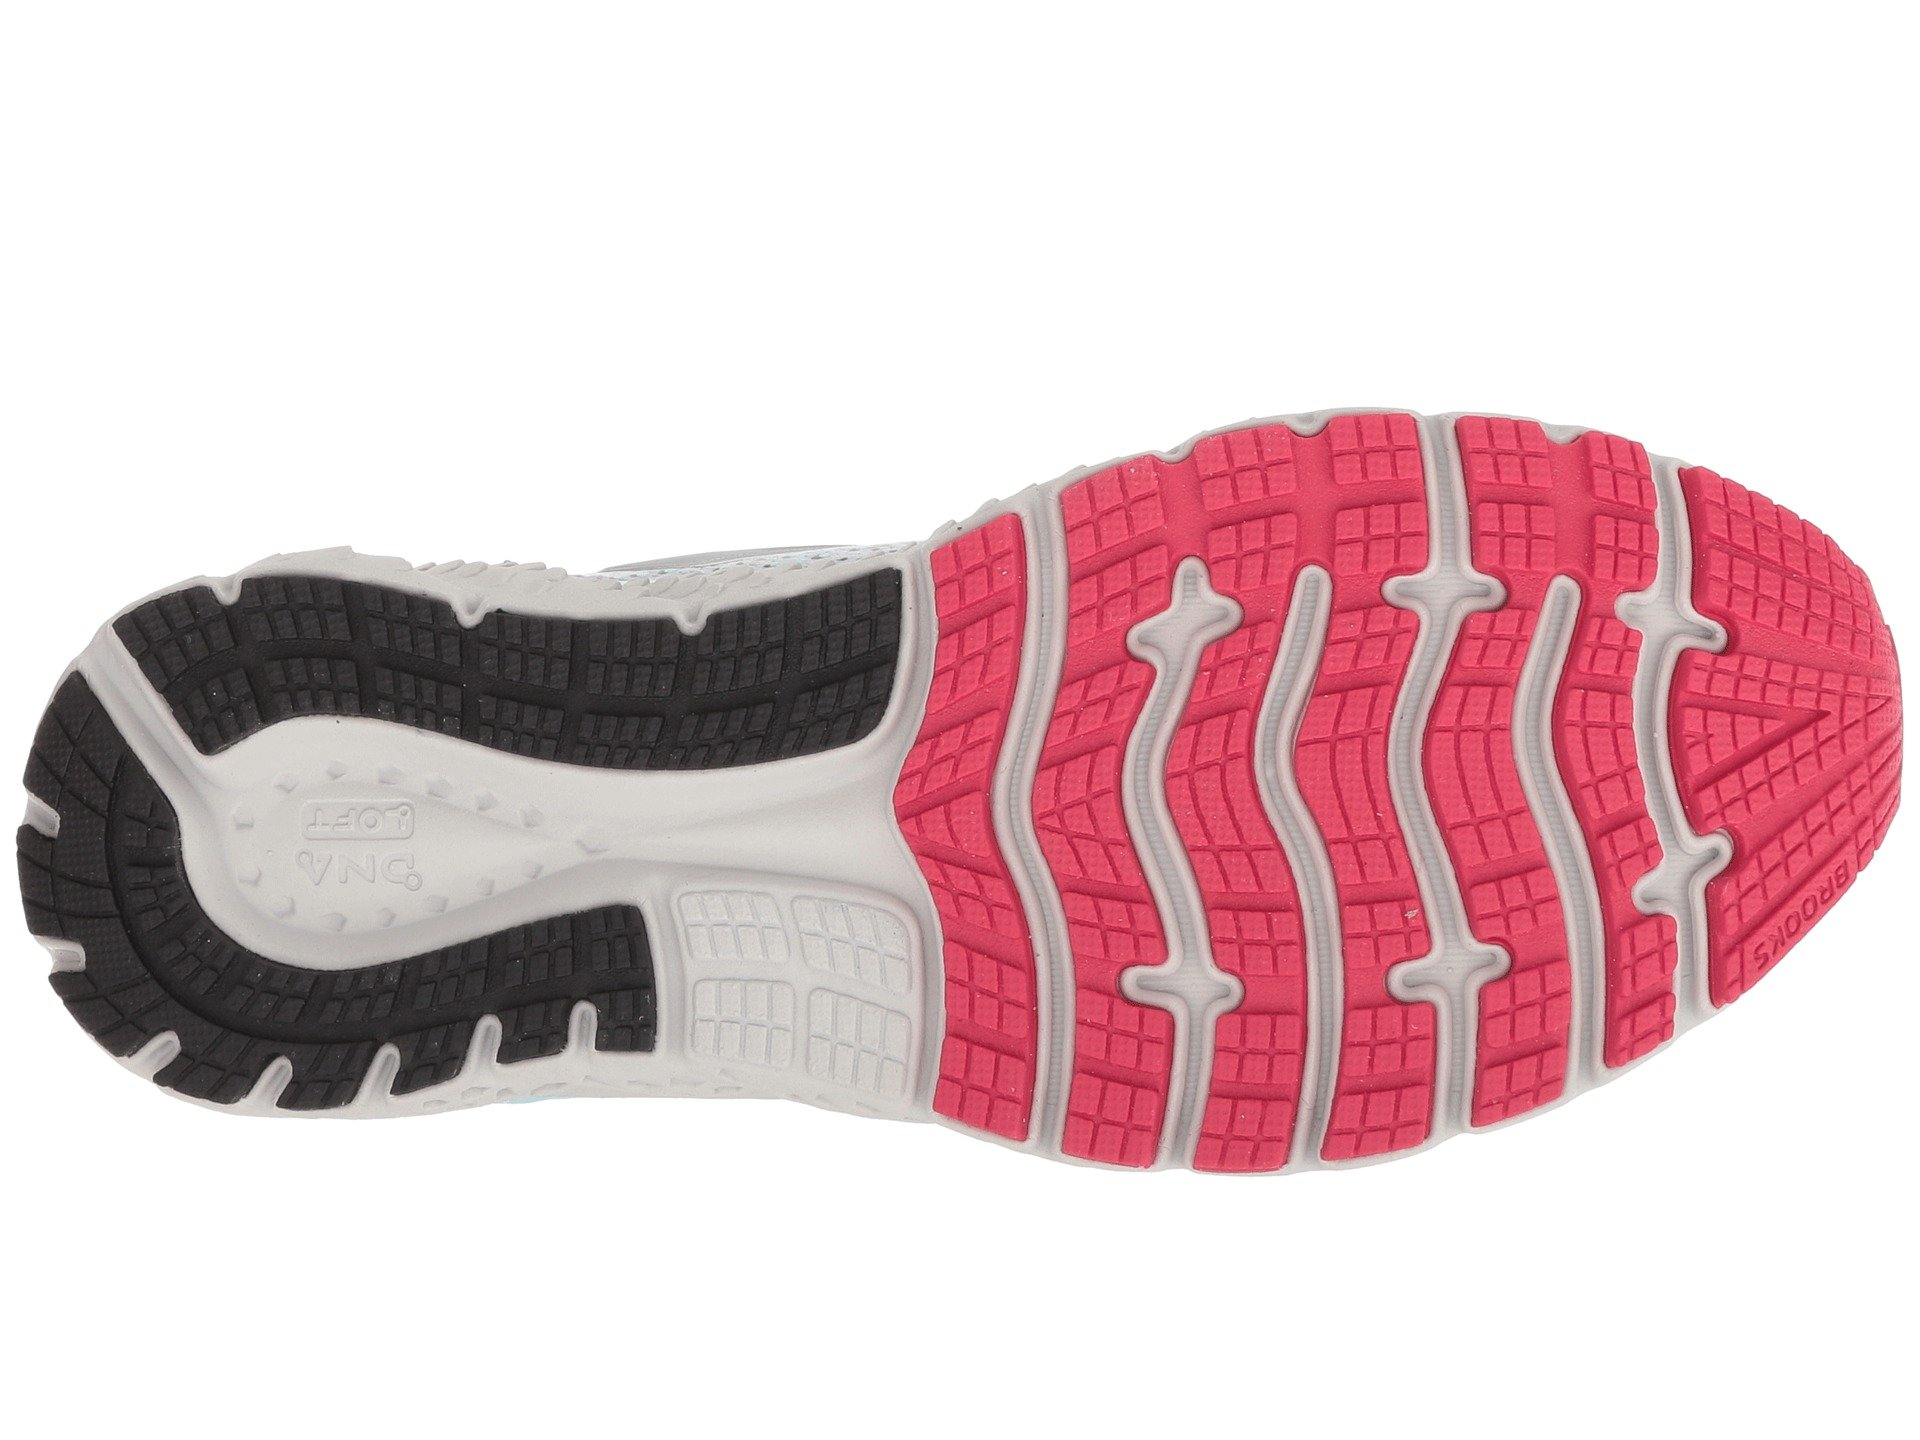chevron: (1111, 85, 1716, 640), (875, 274, 1107, 523), (1720, 231, 1881, 408)
line: (1111, 85, 1716, 640)
quad: (1111, 85, 1716, 640), (875, 274, 1107, 523), (670, 457, 909, 696), (251, 178, 455, 355), (382, 501, 573, 690), (1720, 231, 1881, 408)
ribbon: (1111, 85, 1716, 640), (875, 274, 1107, 523), (682, 319, 872, 513)
text: (463, 213, 662, 383), (290, 399, 416, 501)
triangle: (875, 274, 1107, 523), (1720, 231, 1881, 408)
